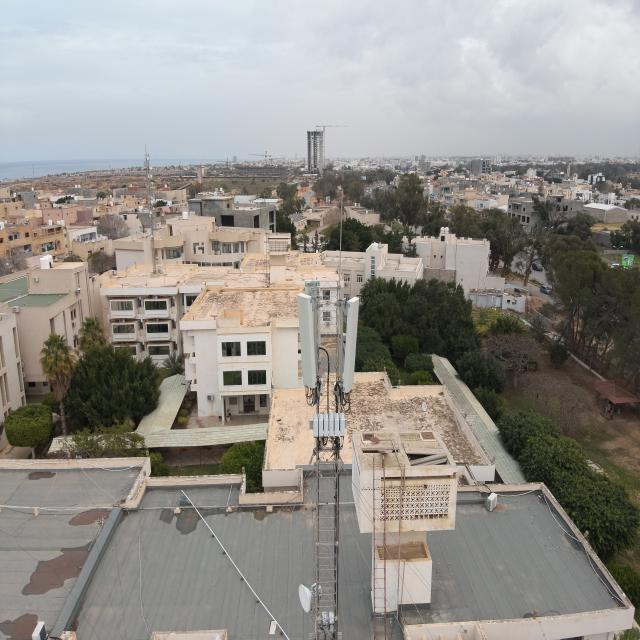antenna: (296, 292, 319, 389), (305, 278, 324, 379), (342, 295, 360, 393)
lighnig-rad: (338, 185, 344, 287)
microware-dish: (298, 582, 322, 614)
power-box: (315, 610, 337, 634)
radio-unit: (312, 411, 347, 440)
